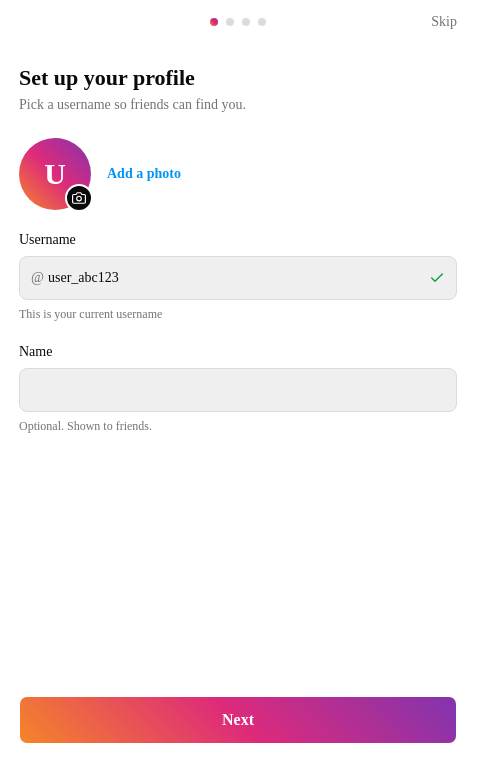
Scenario: onboarding › Next is blocked while the username is taken
Replace the text in the field labelled "Username" with "taken_name" at [238, 278], box [19, 256, 457, 300]
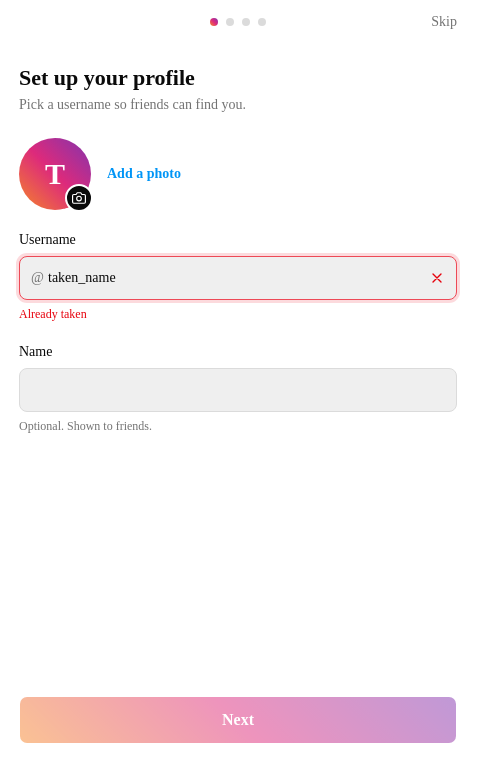
Result: the button "Next" is disabled at [19, 696, 457, 744]
Result: the text "Already taken" is shown at [19, 307, 87, 321]
